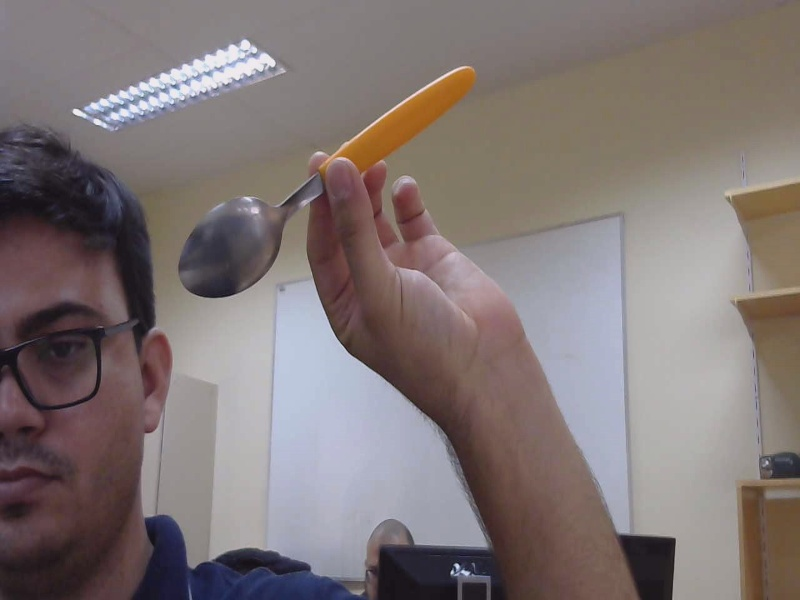cuchara: (173, 56, 479, 300)
